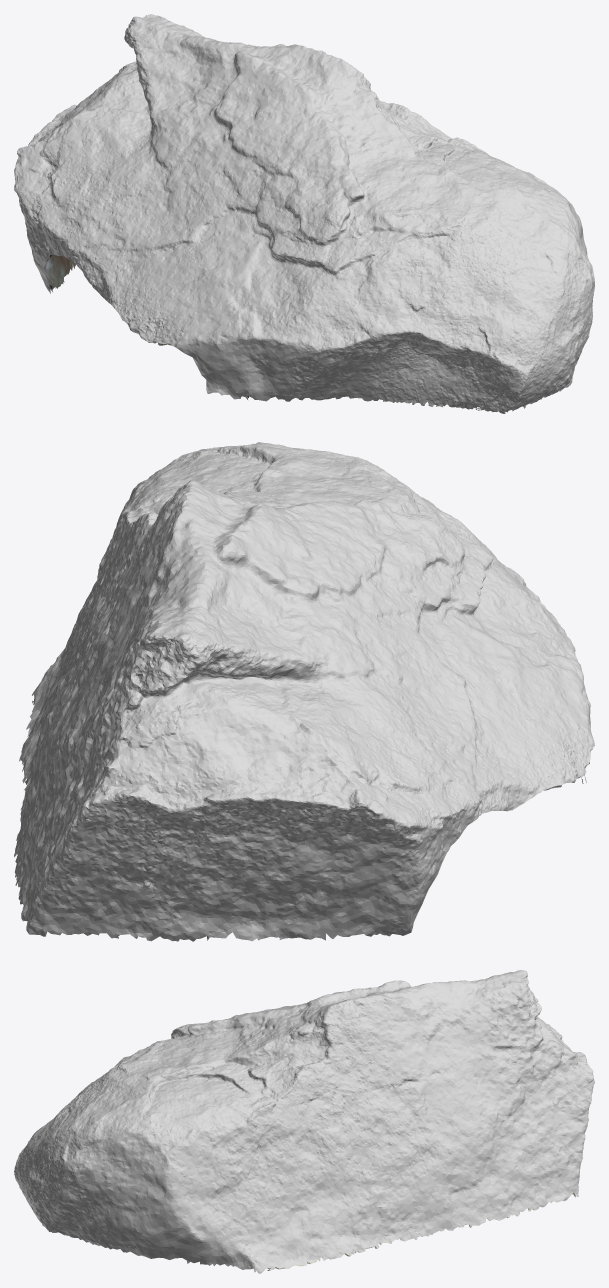
The picture shows the model from 3 angles, top to bottom: view 1: azimuth 30°, elevation 25°; view 2: azimuth 150°, elevation 25°; view 3: azimuth 270°, elevation 25°; orthographic projection. The views are drawn at different scales.
Visible parts, largest first — view 1: model.001, model; view 2: model.001; view 3: model.001.
Part boxes in pixels (x1=…): model.001: x1=14, y1=14, x2=594, y2=413; model: x1=44, y1=255, x2=523, y2=409; model.001: x1=14, y1=442, x2=594, y2=941; model.001: x1=14, y1=970, x2=594, y2=1273.
Size of the model in its own units: 1.7 by 0.9282 by 2.38.
Materials: 2 (1 with a texture image).
